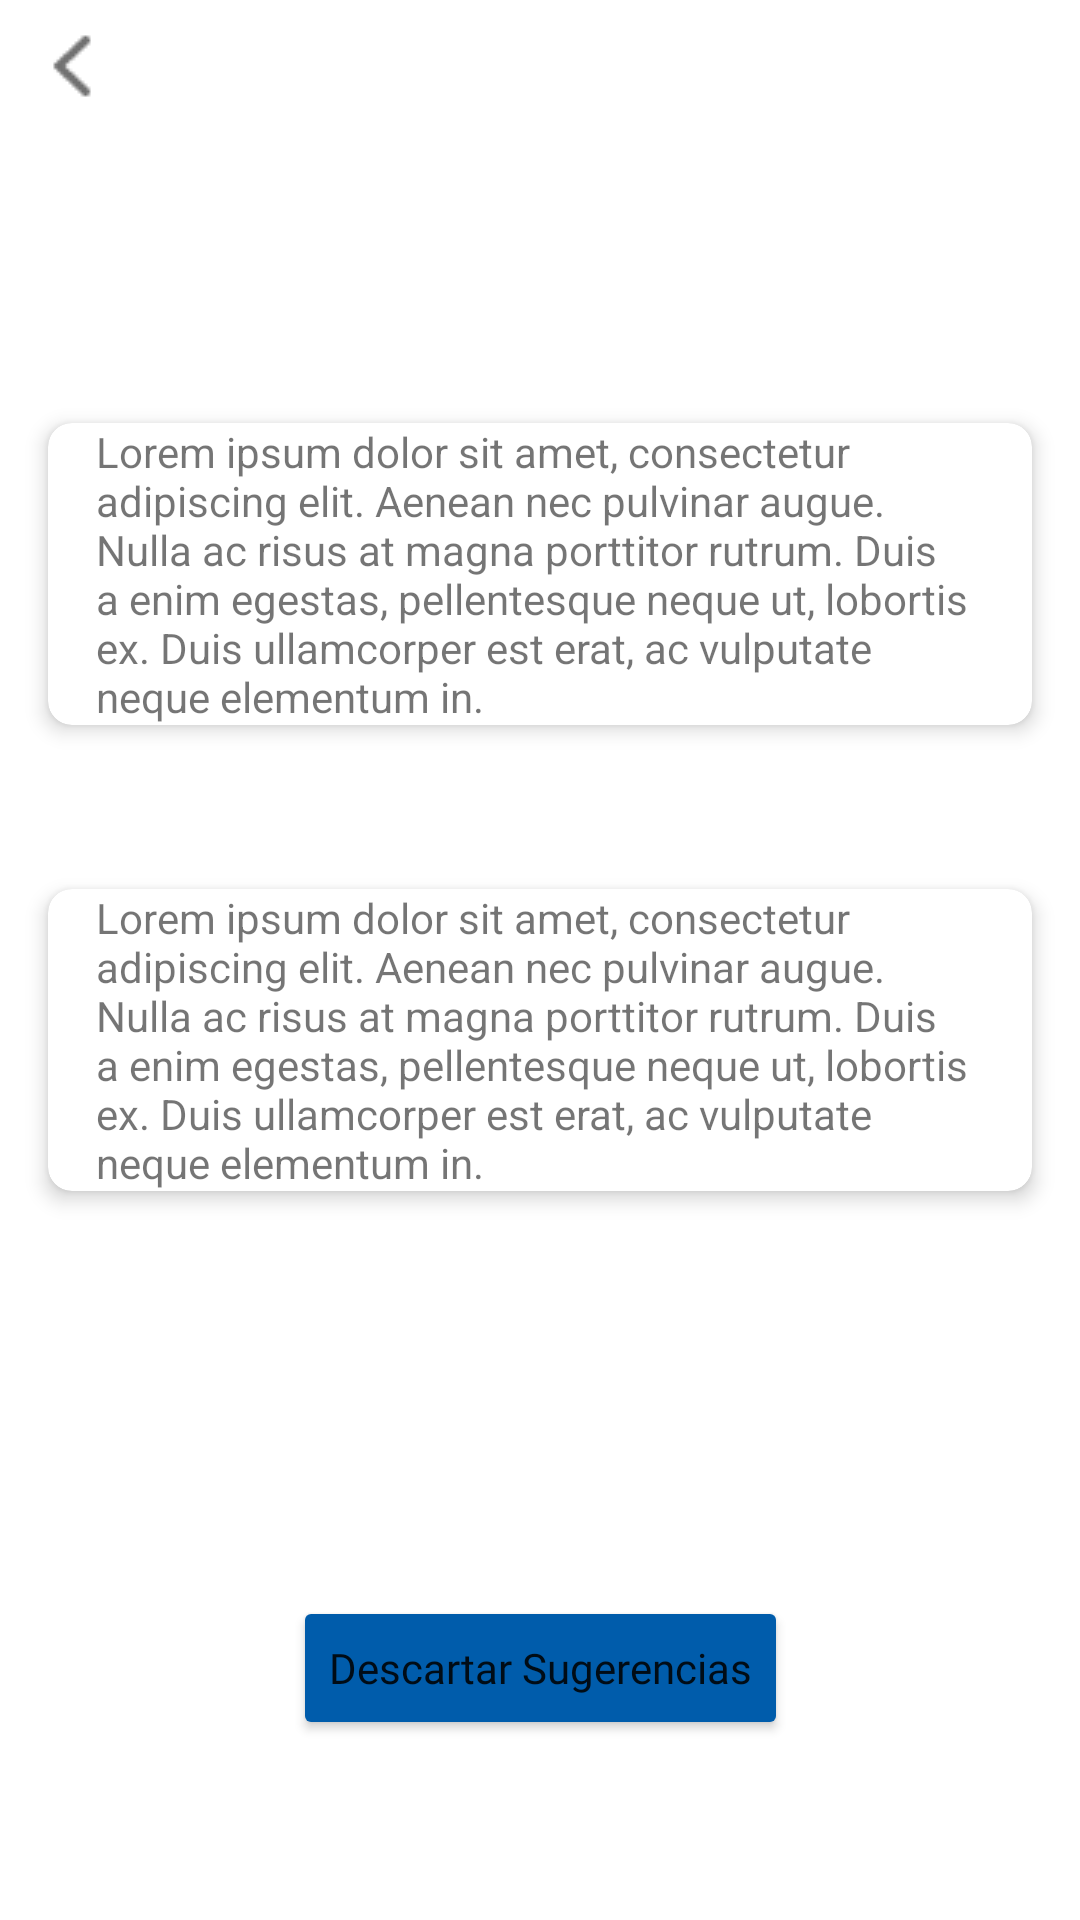

Screen size 1080w x 1920h. Icon name, then its center in pixels as [x,y]:
back: [72,66]
